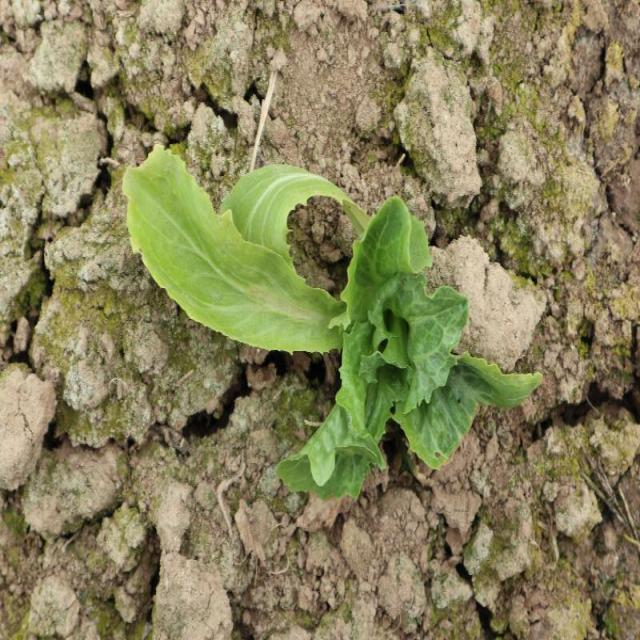crop: (125, 145, 545, 498)
